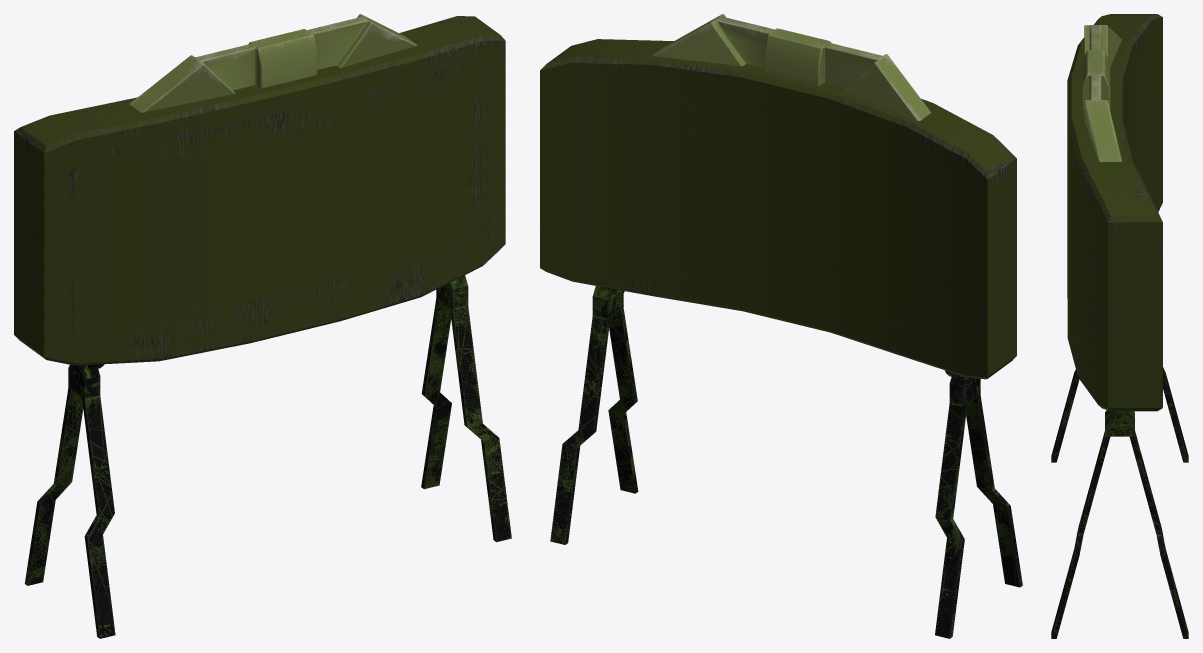
File: claymore LOW .fbx
The picture shows the model from 3 angles, left to right: view 1: azimuth 30°, elevation 25°; view 2: azimuth 150°, elevation 25°; view 3: azimuth 270°, elevation 25°; orthographic projection. The views are drawn at different scales.
Parts seen in each view (by area): view 1: Cube; view 2: Cube; view 3: Cube.
Part boxes in pixels (bbox=[...]): Cube: bbox=[14, 14, 511, 638]; Cube: bbox=[540, 14, 1022, 638]; Cube: bbox=[1051, 14, 1188, 638].
Bounding box in the file's own units: 23.97 × 26.43 × 6.78.
